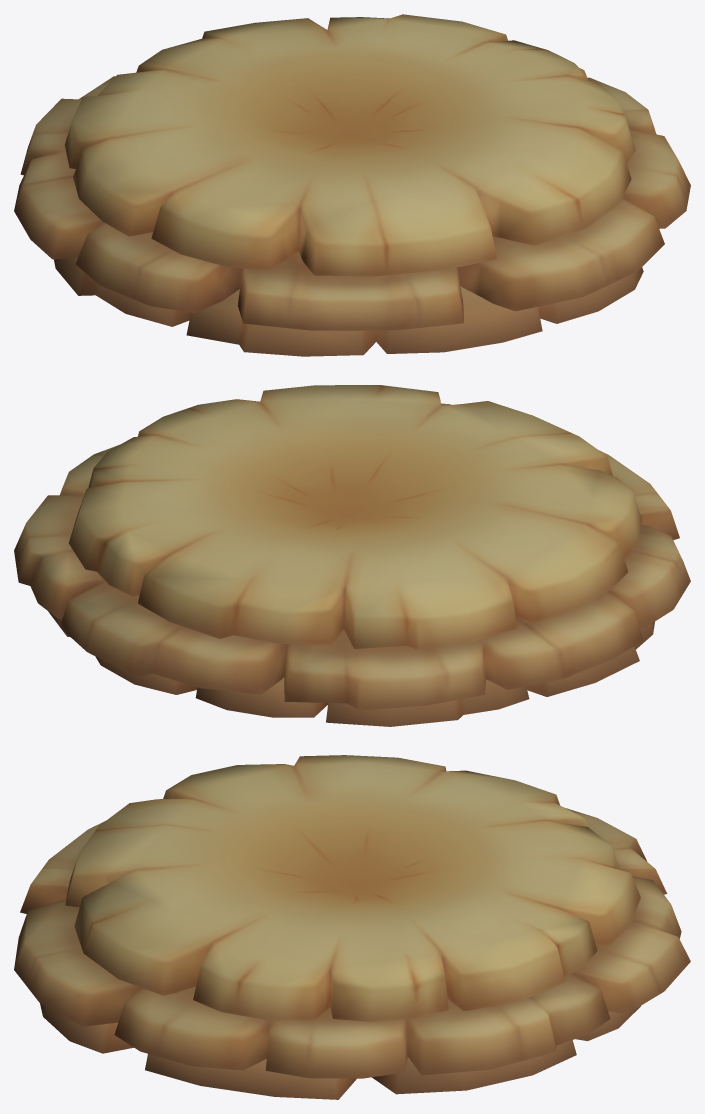
Rendered from BLD_DinoNest_A.fbx.
3 renders of one model, top to bottom at view 1: azimuth 30°, elevation 25°; view 2: azimuth 150°, elevation 25°; view 3: azimuth 270°, elevation 25°, orthographic.
Parts seen in each view (by area): view 1: BLD_DinoNest_A; view 2: BLD_DinoNest_A; view 3: BLD_DinoNest_A.
Boxes of the visible parts, x1=… form: BLD_DinoNest_A: x1=14, y1=14, x2=690, y2=356; BLD_DinoNest_A: x1=14, y1=385, x2=690, y2=726; BLD_DinoNest_A: x1=14, y1=755, x2=690, y2=1099.
Size of the model in its own units: 44.16 by 8.05 by 44.17.
